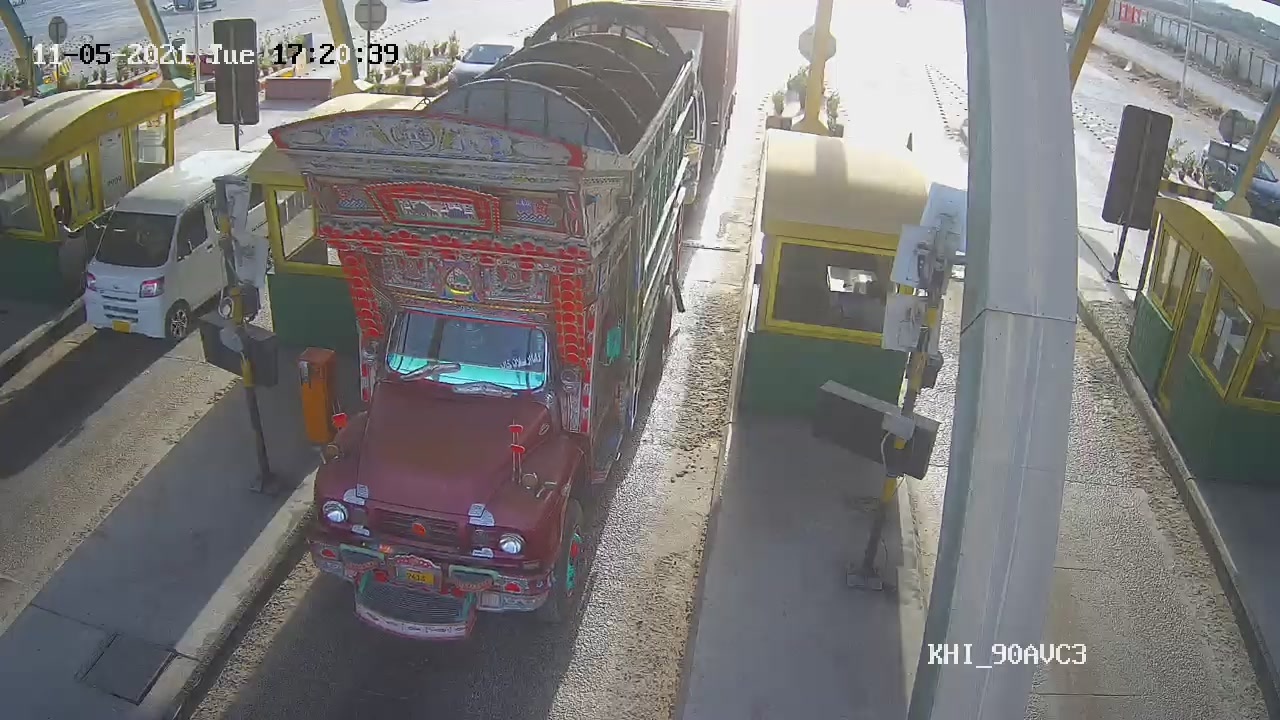F5: (305, 4, 697, 643)
